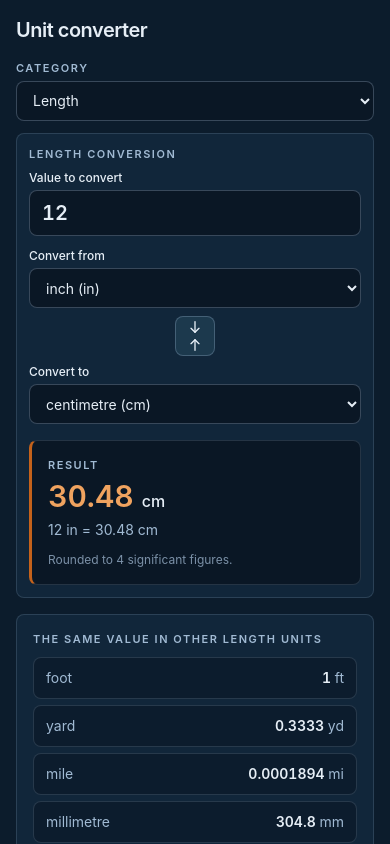
Test case: Converter screen — category picker › AC-006: a freshly typed number survives a category switch
Step 1. Replace the text in the field labelled "Value to convert" with "3" → coordinates (195, 213), box 29,190 -> 361,236
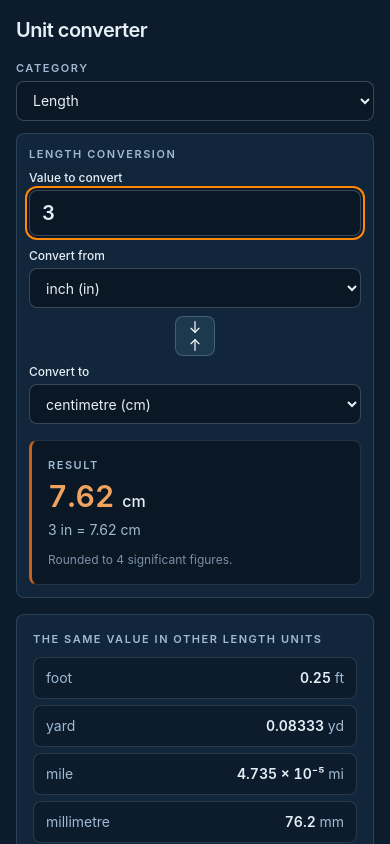
Step 2. Select "Area" in the dropdown labelled "Category" → coordinates (195, 100), box 16,80 -> 374,120
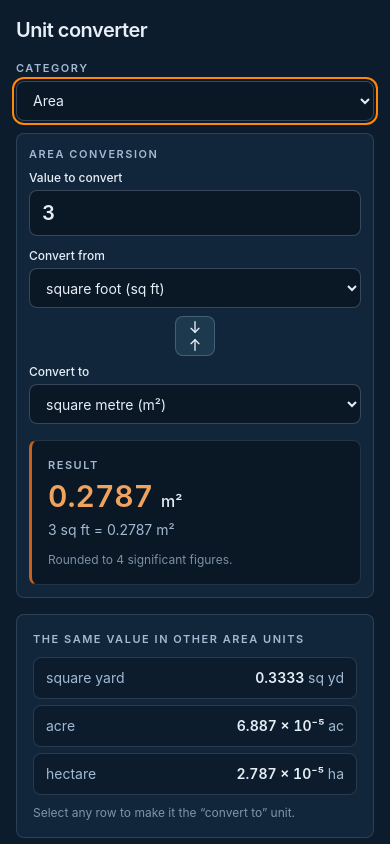
Now the text "3 sq ft = 0.2787 m²" is shown, box 48,520 -> 175,538
